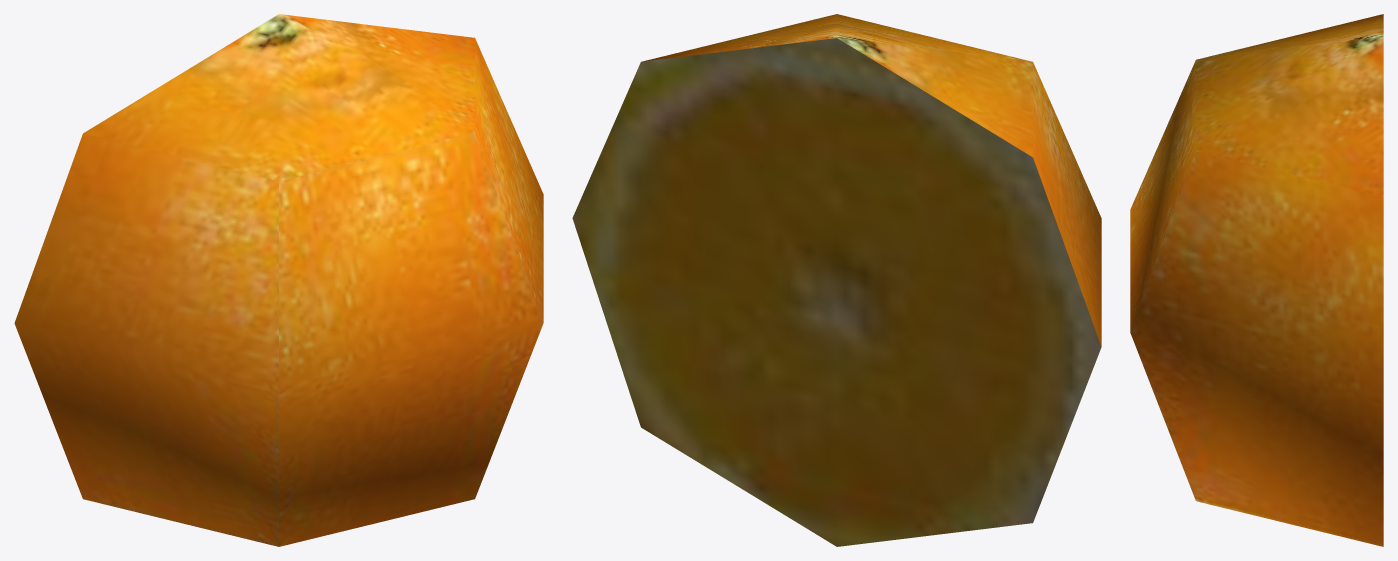
Rendered from Orange_01.glb.
The picture shows the model from 3 angles, left to right: view 1: azimuth 30°, elevation 25°; view 2: azimuth 150°, elevation 25°; view 3: azimuth 270°, elevation 25°; orthographic projection. The views are drawn at different scales.
Parts seen in each view (by area): view 1: Orange_01; view 2: Orange_01; view 3: Orange_01.
Part boxes in pixels (bbox=[...]): Orange_01: bbox=[14, 14, 543, 546]; Orange_01: bbox=[572, 14, 1101, 546]; Orange_01: bbox=[1130, 14, 1383, 546].
Size of the model in its own units: 0.1471 by 0.1353 by 0.0637.
1 material, 1 textured.
